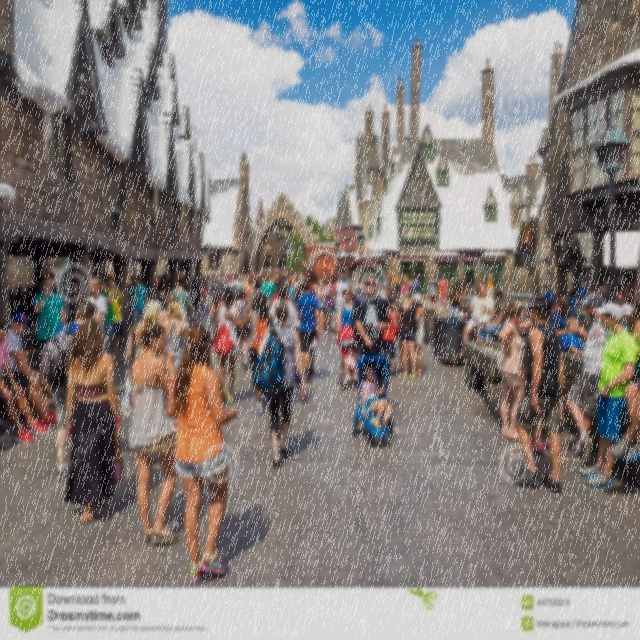pessoa: (165, 320, 240, 586), (62, 314, 126, 524), (578, 301, 640, 489), (130, 316, 180, 545), (512, 294, 568, 494), (559, 290, 614, 468), (252, 301, 308, 469), (54, 299, 96, 481), (0, 313, 58, 426), (0, 318, 52, 444), (223, 291, 275, 416), (608, 305, 640, 462), (212, 287, 248, 405), (497, 300, 525, 442), (352, 272, 391, 358), (201, 264, 318, 292), (456, 281, 496, 361), (32, 274, 66, 366), (124, 298, 162, 376), (296, 280, 322, 384), (22, 346, 59, 408), (548, 293, 591, 345), (360, 364, 393, 429), (396, 288, 419, 379), (99, 276, 121, 368), (104, 274, 124, 362), (268, 284, 300, 339), (4, 272, 34, 330), (162, 302, 186, 374), (232, 288, 252, 372), (478, 287, 508, 343), (394, 298, 414, 374), (376, 269, 422, 302), (381, 296, 399, 380), (170, 273, 196, 330), (84, 274, 108, 335), (28, 275, 44, 355), (596, 280, 640, 307), (412, 292, 426, 376), (128, 273, 149, 324), (559, 316, 585, 356), (48, 273, 70, 317), (530, 414, 552, 456), (210, 291, 228, 339), (336, 287, 354, 334), (334, 273, 348, 333), (315, 278, 328, 337), (450, 280, 470, 318), (342, 342, 360, 382), (157, 292, 177, 326), (247, 279, 271, 307), (435, 274, 451, 316), (322, 278, 334, 334), (568, 285, 588, 318), (332, 269, 366, 288), (260, 272, 276, 310), (544, 282, 562, 312), (460, 280, 476, 312), (230, 274, 244, 306), (241, 276, 256, 302), (428, 275, 438, 310), (484, 272, 496, 297), (330, 278, 337, 318), (156, 270, 170, 290), (202, 290, 216, 310), (287, 280, 297, 306), (350, 287, 366, 303), (128, 271, 142, 287), (34, 272, 43, 296), (157, 285, 167, 300), (100, 270, 110, 280), (220, 291, 223, 303)
